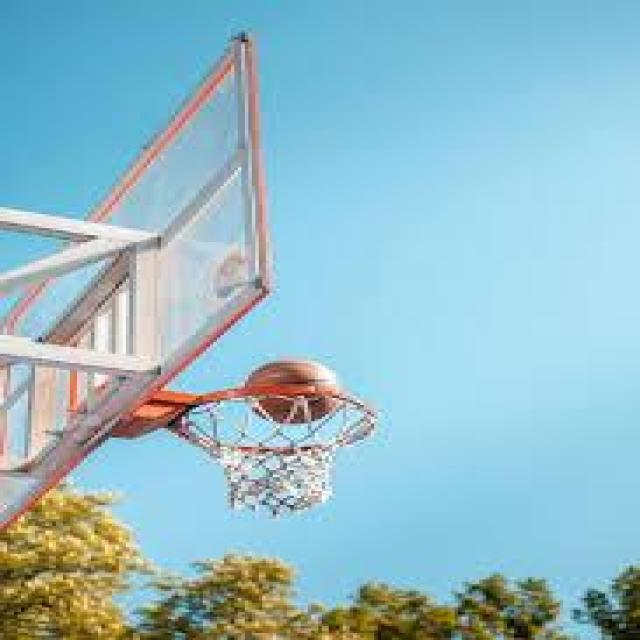hoop: (161, 374, 391, 528)
